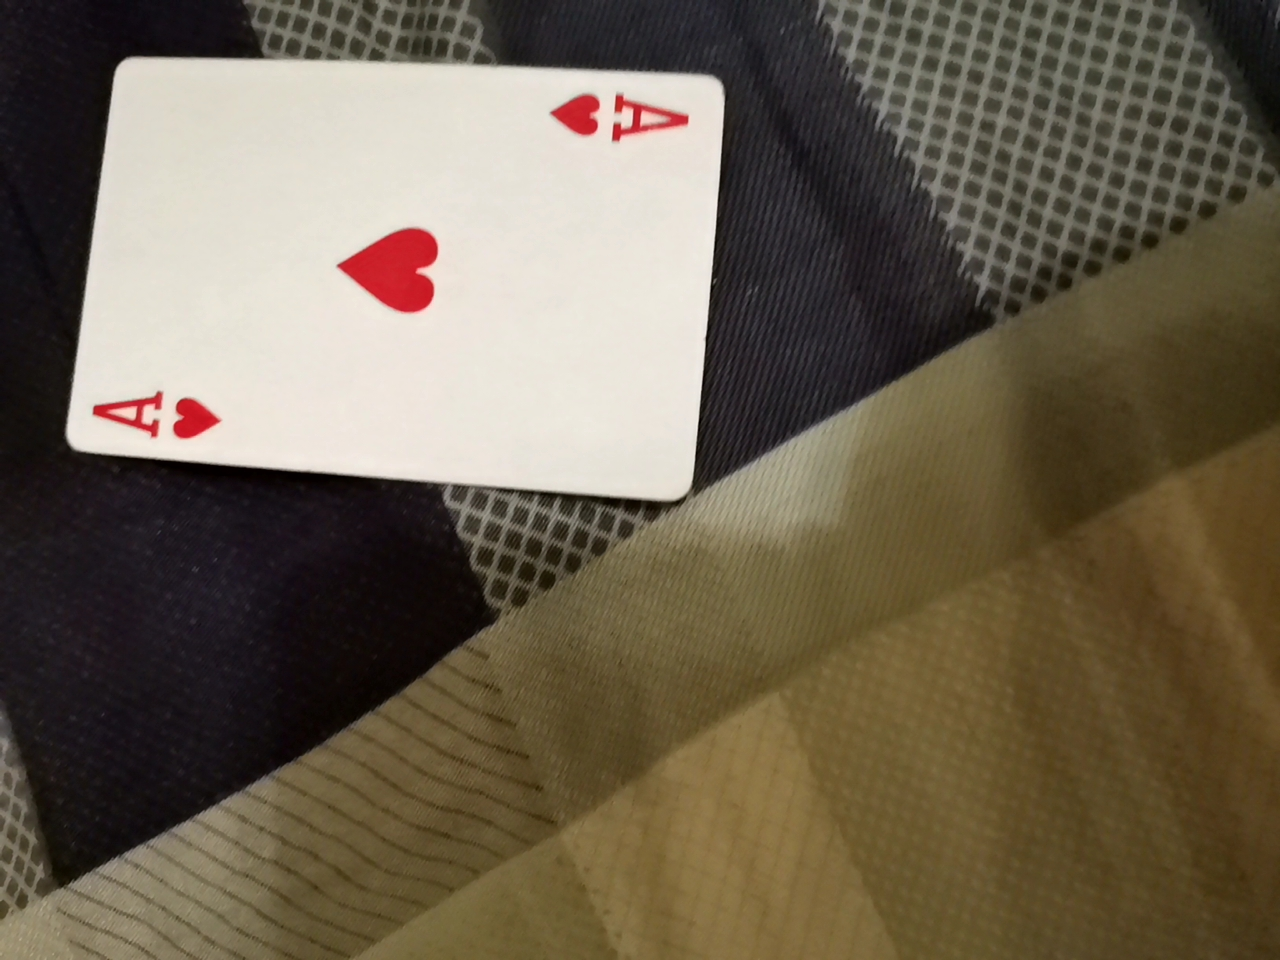hx a: (34, 61, 720, 531)
